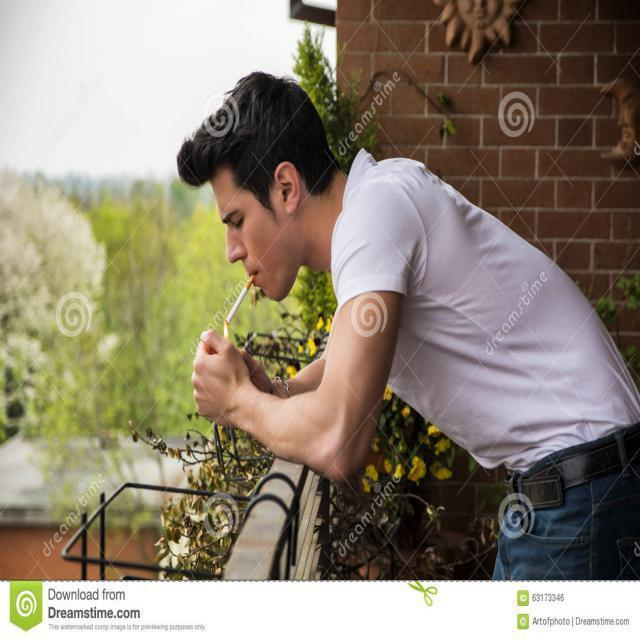smoking: (217, 268, 266, 326)
